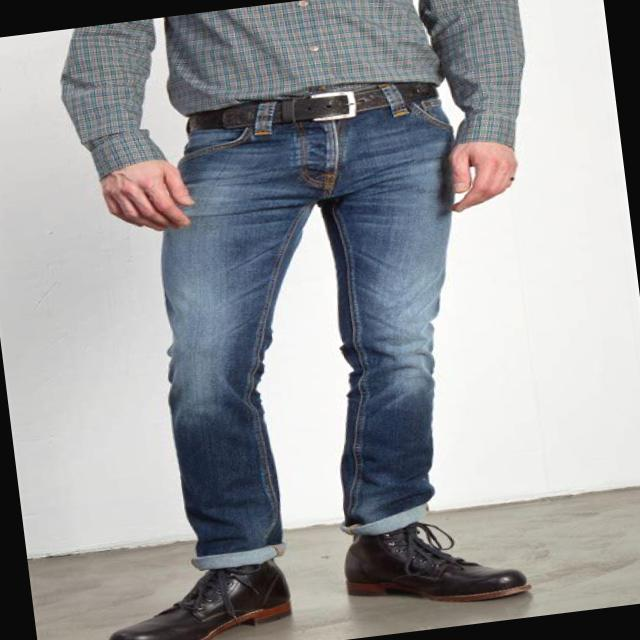pants: (134, 74, 501, 570)
